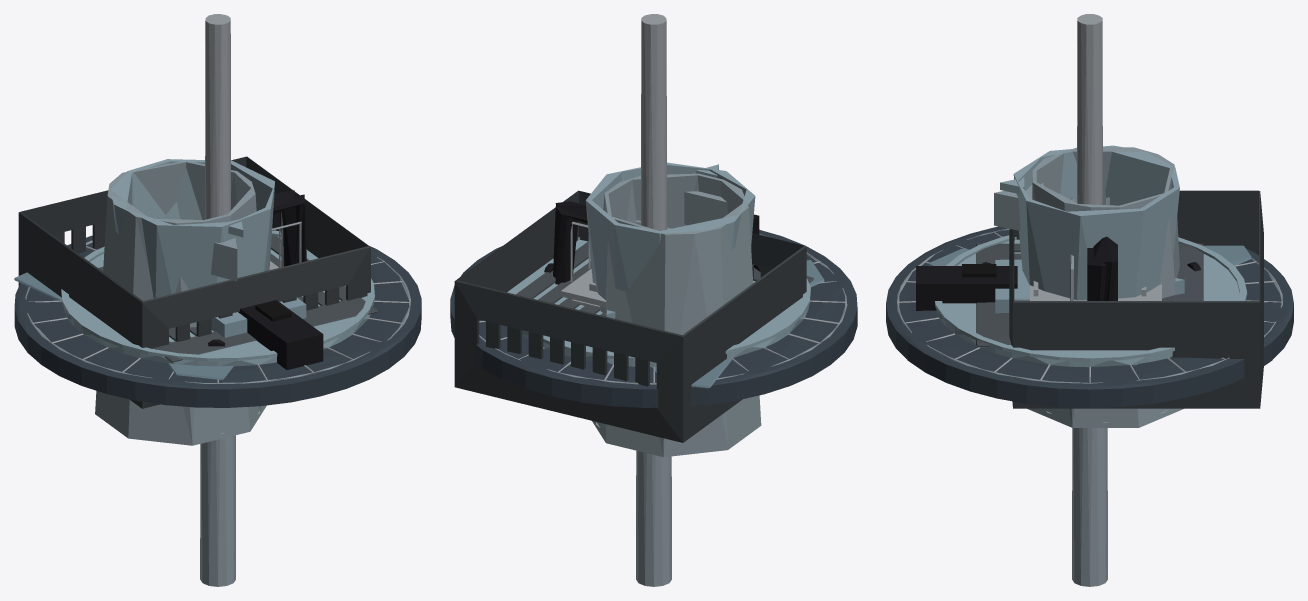
File: cotidianos.glb
The picture shows the model from 3 angles, left to right: view 1: azimuth 30°, elevation 25°; view 2: azimuth 150°, elevation 25°; view 3: azimuth 270°, elevation 25°; orthographic projection.
Visible parts, largest first — view 1: canasta_freidora, pedestal_ventilador, jarra_pava, jarra_licuadora, tubo_telescopico, plato_microondas, rejilla_crujiente, rejilla_ventilador, helice_ventilador, deposito_plancha; view 2: canasta_freidora, jarra_pava, pedestal_ventilador, tubo_telescopico, jarra_licuadora, plato_microondas, rejilla_crujiente, rejilla_ventilador, magnetron, helice_ventilador; view 3: canasta_freidora, pedestal_ventilador, jarra_licuadora, tubo_telescopico, jarra_pava, plato_microondas, rejilla_crujiente, rejilla_ventilador, deposito_plancha, helice_ventilador, magnetron.
Boxes of the visible parts, box(x1,y1,x2,y2) form: canasta_freidora: box(18, 156, 370, 408); pedestal_ventilador: box(14, 235, 421, 407); jarra_pava: box(95, 161, 298, 445); jarra_licuadora: box(111, 159, 306, 298); tubo_telescopico: box(200, 14, 235, 586); plato_microondas: box(61, 230, 374, 366); rejilla_crujiente: box(98, 235, 377, 362); rejilla_ventilador: box(25, 240, 410, 383); helice_ventilador: box(14, 272, 233, 380); deposito_plancha: box(211, 297, 306, 337); canasta_freidora: box(454, 190, 806, 442); jarra_pava: box(553, 173, 761, 457); pedestal_ventilador: box(450, 229, 857, 407); tubo_telescopico: box(636, 14, 671, 586); jarra_licuadora: box(555, 162, 755, 313); plato_microondas: box(507, 237, 810, 367); rejilla_crujiente: box(516, 241, 813, 316); rejilla_ventilador: box(479, 234, 847, 384); magnetron: box(561, 268, 606, 309); helice_ventilador: box(651, 260, 824, 388); canasta_freidora: box(916, 190, 1263, 408); pedestal_ventilador: box(886, 226, 1293, 407); jarra_licuadora: box(1000, 145, 1179, 300); tubo_telescopico: box(1072, 14, 1107, 586); jarra_pava: box(994, 147, 1183, 427); plato_microondas: box(935, 235, 1247, 367); rejilla_crujiente: box(976, 243, 1203, 346); rejilla_ventilador: box(897, 228, 1282, 383); deposito_plancha: box(995, 259, 1184, 313); helice_ventilador: box(928, 245, 1251, 365); magnetron: box(1030, 284, 1161, 300).
Bounding box in the file's own units: 34 × 51.5 × 34.
